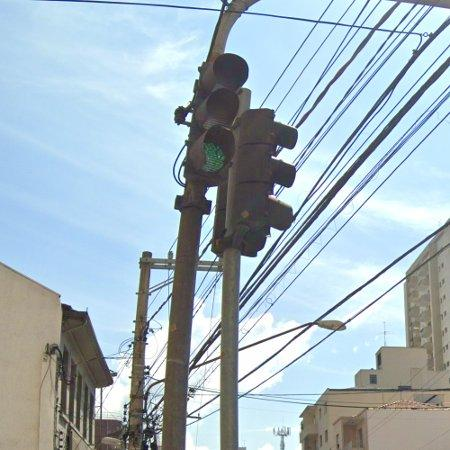traffic lights: (225, 109, 298, 256)
